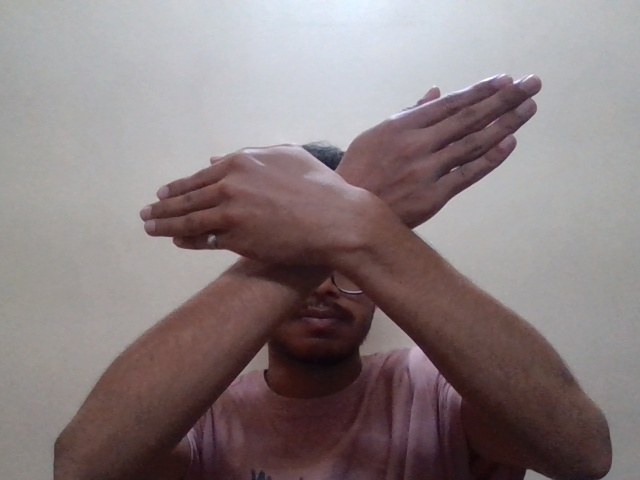feel: (134, 71, 573, 296)
